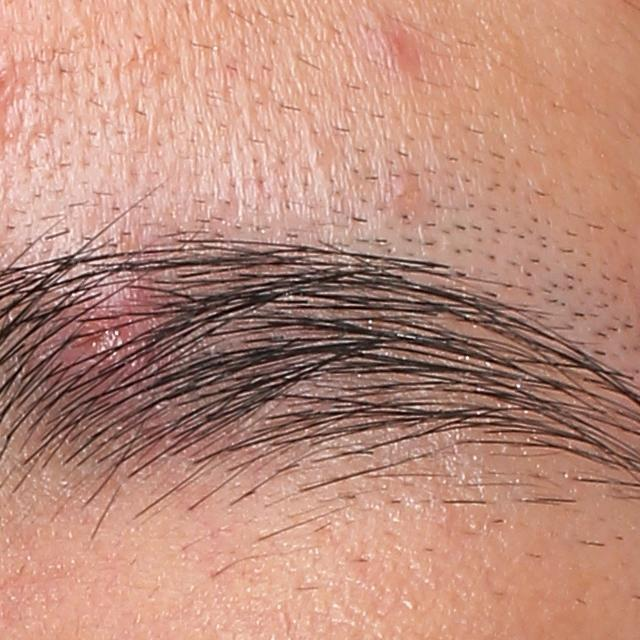papule: (60, 296, 160, 386), (364, 11, 420, 72)
